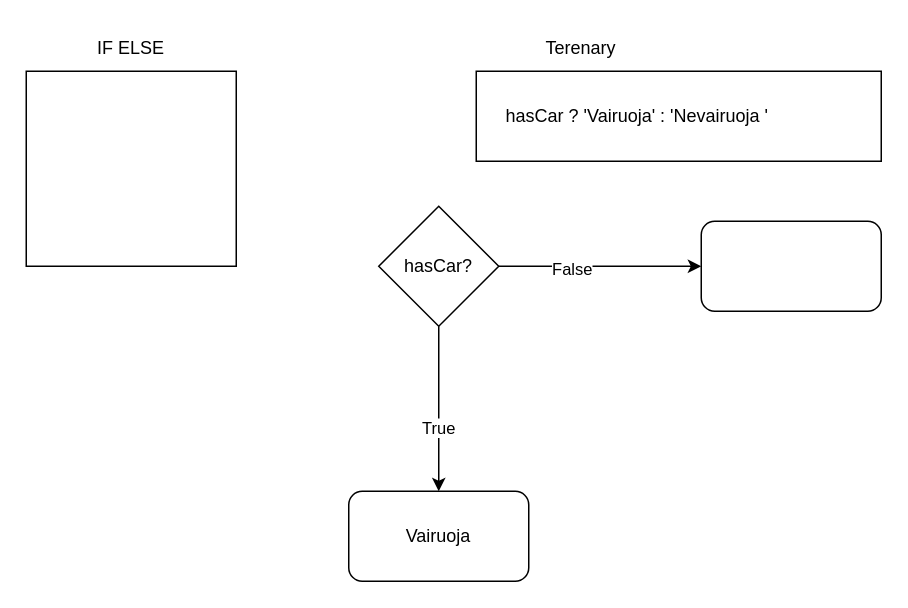
The diagram is 908 pixels wide and 608 high, and some of its shapes have lost their labels. Each missing label, with the centre of its shape:
if (hasCar) { Vairuoja } else { Nevairuoja }: the point at 130,168
Nevairuoja: the point at 790,265
